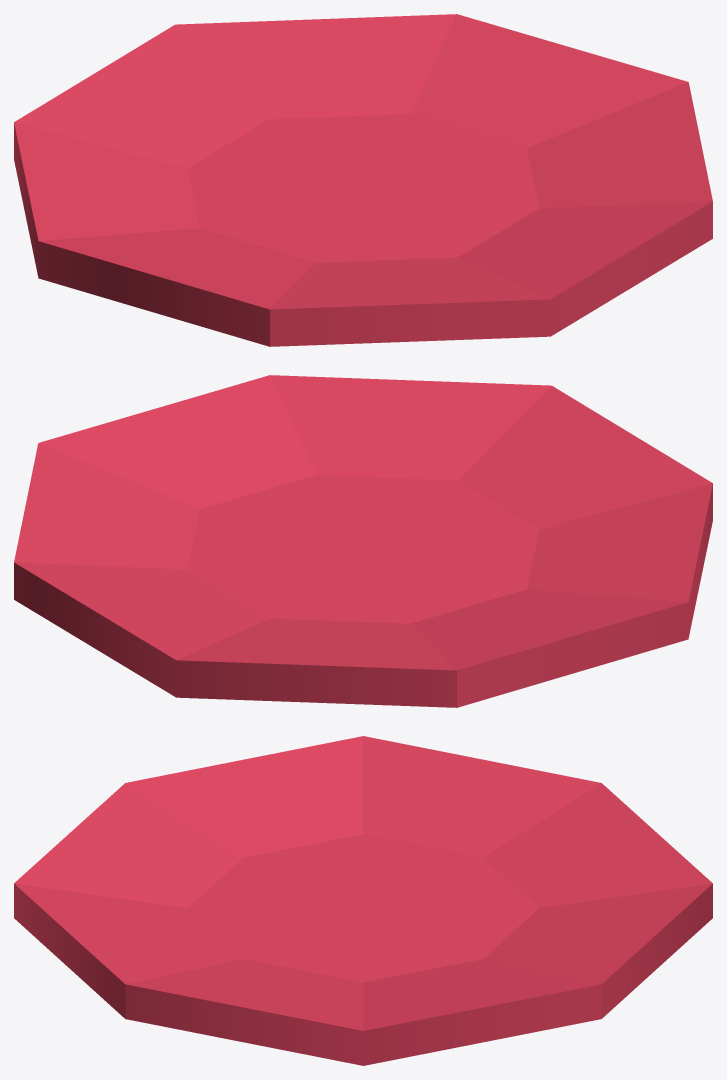
File: Itr_Obj_dish2_03.FBX
3 views of the same model, one above another, from view 1: azimuth 30°, elevation 25°; view 2: azimuth 150°, elevation 25°; view 3: azimuth 270°, elevation 25° (orthographic). The views are drawn at different scales.
Parts seen in each view (by area): view 1: Itr_Obj_dish2_03; view 2: Itr_Obj_dish2_03; view 3: Itr_Obj_dish2_03.
Boxes of the visible parts, bbox=[...] form: Itr_Obj_dish2_03: bbox=[14, 14, 712, 346]; Itr_Obj_dish2_03: bbox=[14, 375, 712, 707]; Itr_Obj_dish2_03: bbox=[14, 736, 712, 1065].
Size of the model in its own units: 9.99 by 0.9449 by 9.99.
